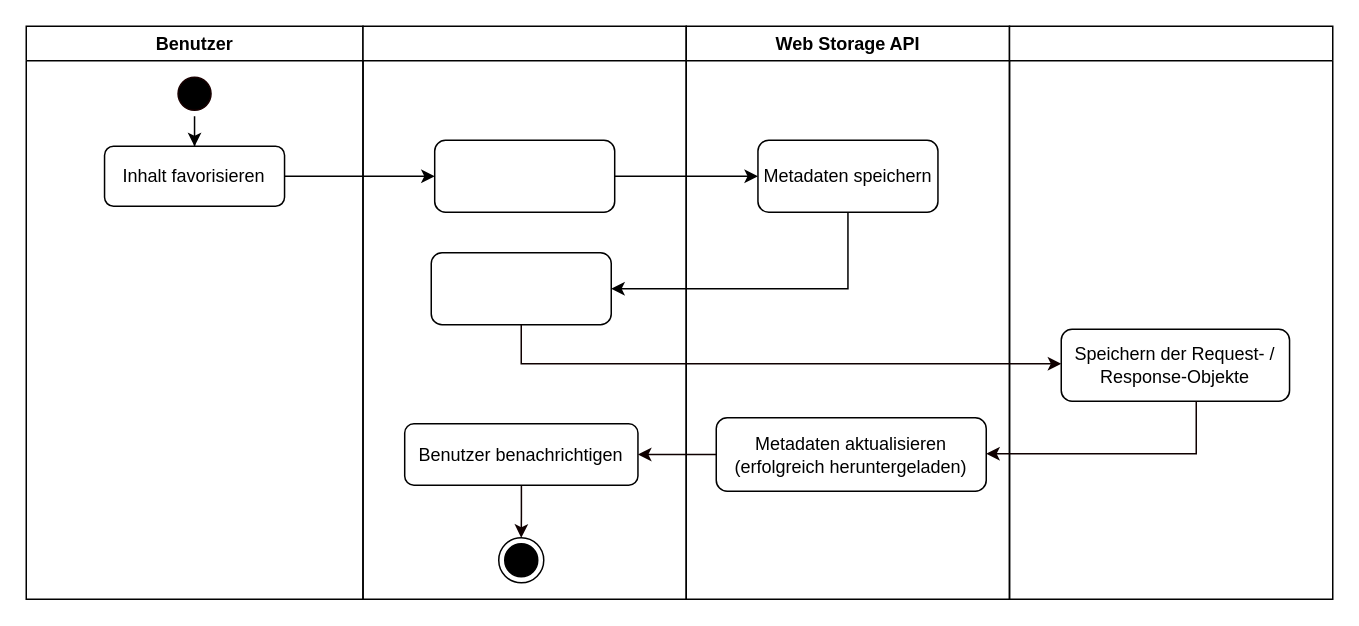
The diagram is 1359 pixels wide and 626 high, and some of its shapes have lost their labels. The box of each missing label's shape, as (x1, y1, x2, y2) in pixels:
Cache API: (1008, 25, 1333, 599)
Download der Audiodatei: (430, 251, 611, 325)
Metadaten abrufen (Id, Titel, ...): (433, 139, 615, 212)
Webportal: (362, 25, 686, 599)
